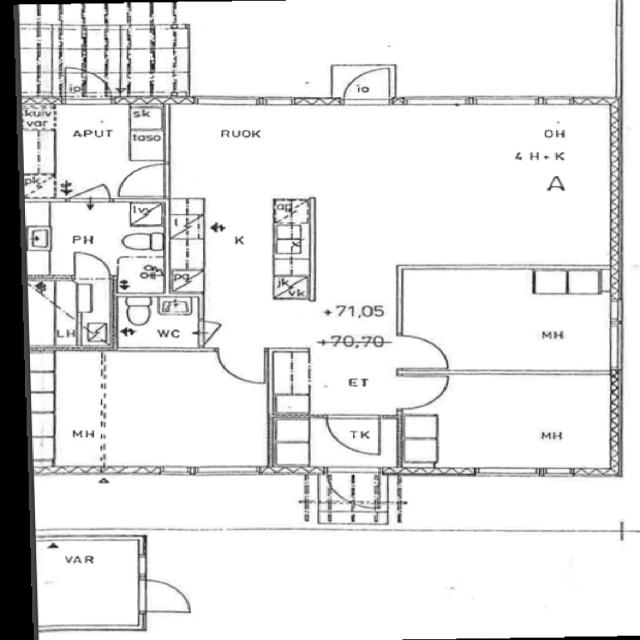door: (320, 412, 385, 459), (390, 370, 452, 412), (136, 575, 196, 615), (395, 332, 455, 371), (113, 160, 169, 201), (339, 66, 394, 106), (213, 347, 269, 386), (68, 250, 114, 284)
window: (599, 293, 632, 374), (188, 92, 265, 110), (472, 464, 542, 482), (192, 464, 263, 481), (471, 93, 539, 110), (401, 94, 468, 111), (536, 465, 580, 481), (154, 464, 198, 479)
zone: (42, 347, 274, 473), (399, 268, 617, 374), (400, 373, 620, 474), (20, 100, 168, 201), (24, 200, 169, 286), (35, 539, 143, 630), (26, 277, 113, 349), (111, 294, 204, 351)
